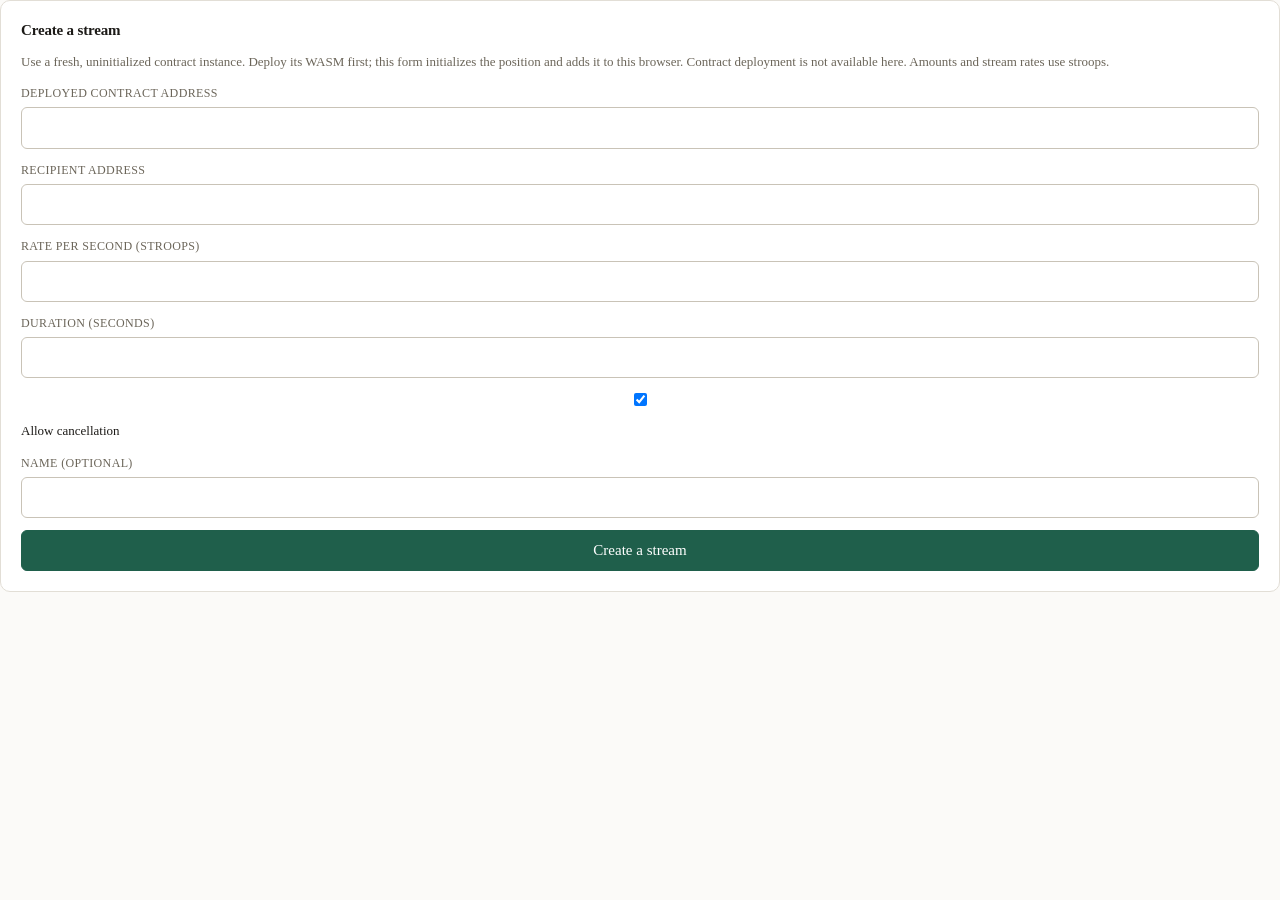
Test case: CreatePositionForm validation & inline errors (#293) › displays inline errors for empty required fields on submit (stream)
Step 1. Click the button "Create a stream" → {"x": 640, "y": 551}, box 21,530 -> 1259,572
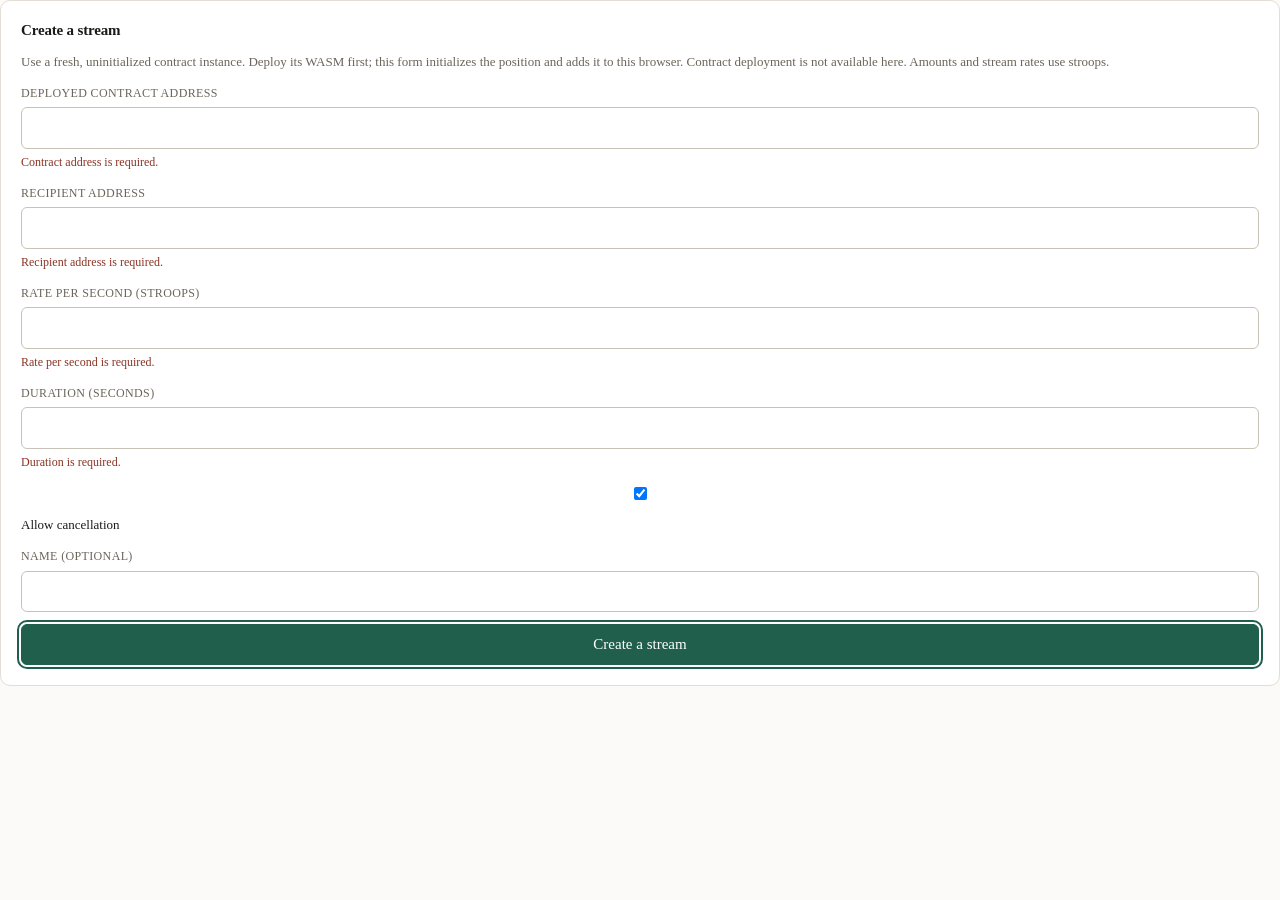
Check: the text "Contract address is required." is shown, box 21,155 -> 158,169
Check: the text "Recipient address is required." is shown, box 21,255 -> 163,269
Check: the text "Rate per second is required." is shown, box 21,355 -> 155,369
